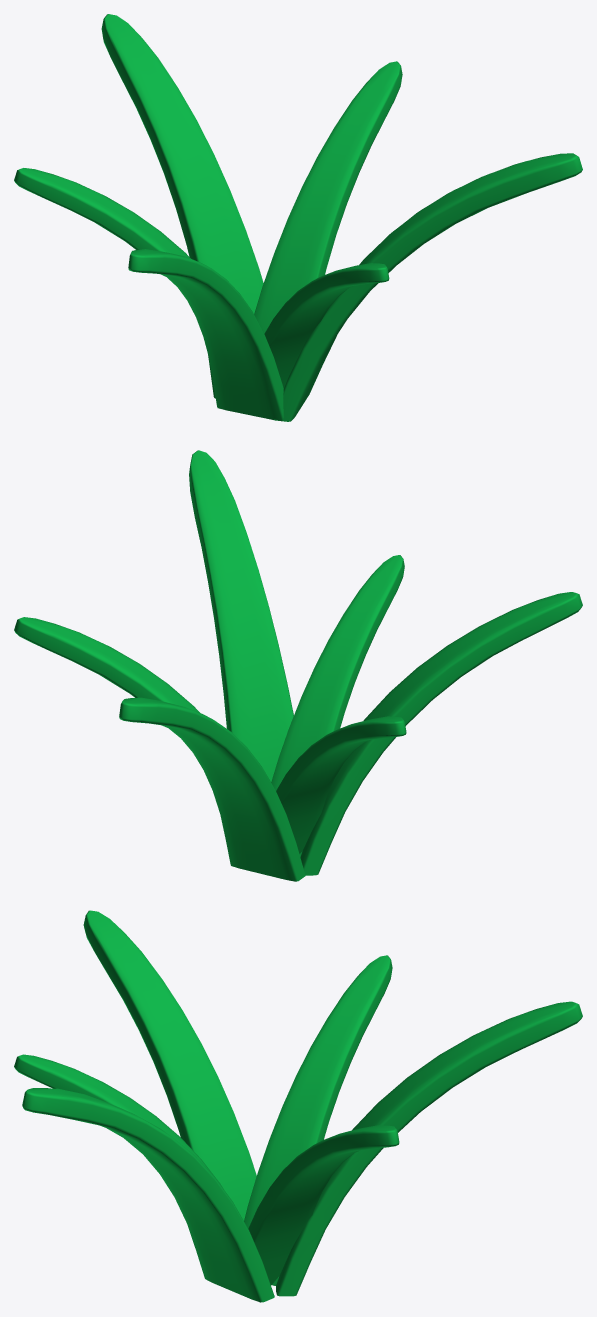
The model's file is Town_20_Grass_1.glb.
3 views of the same model, one above another, from view 1: azimuth 30°, elevation 25°; view 2: azimuth 150°, elevation 25°; view 3: azimuth 270°, elevation 25° (orthographic).
Parts seen in each view (by area): view 1: Town_20_Grass_1; view 2: Town_20_Grass_1; view 3: Town_20_Grass_1.
Boxes of the visible parts, left/top/right/bottom form: Town_20_Grass_1: left=14, top=14, right=582, bottom=421; Town_20_Grass_1: left=14, top=450, right=582, bottom=881; Town_20_Grass_1: left=14, top=910, right=582, bottom=1302.
Size of the model in its own units: 0.4563 by 0.2913 by 0.527.
1 material, 1 textured.
